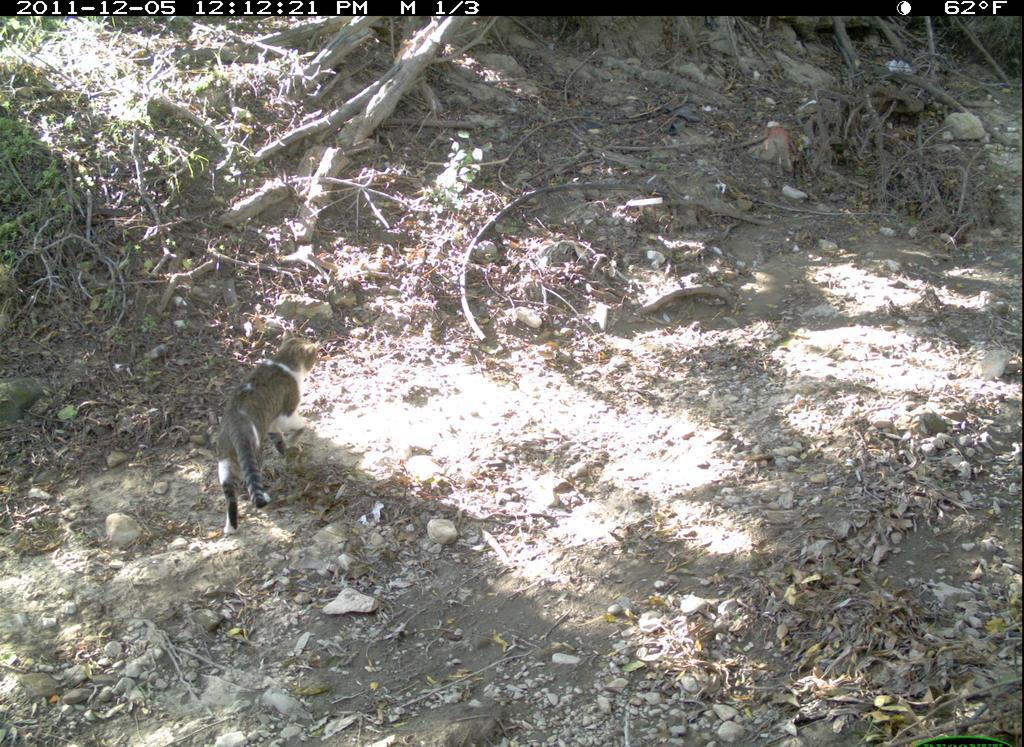cat: (193, 321, 340, 534)
